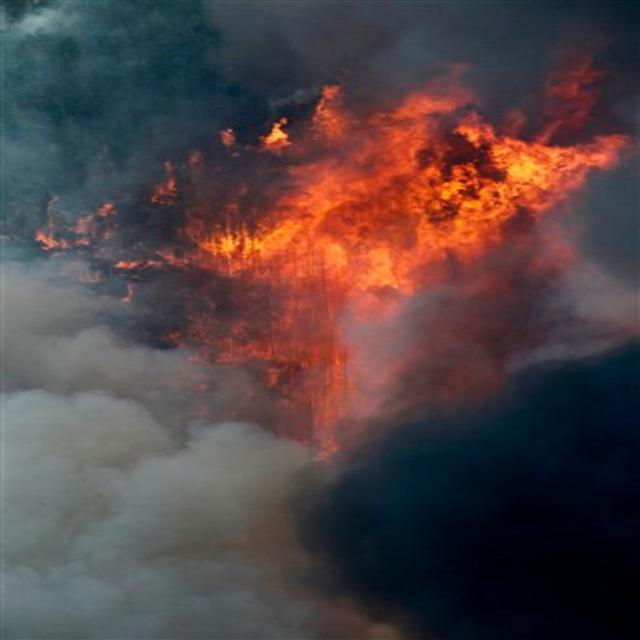Fire: (100, 83, 640, 319)
Smoke: (13, 0, 640, 631)
